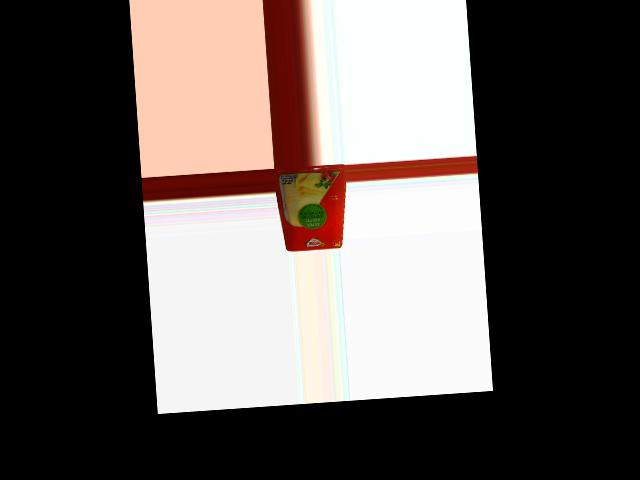cheese: (275, 163, 351, 251)
